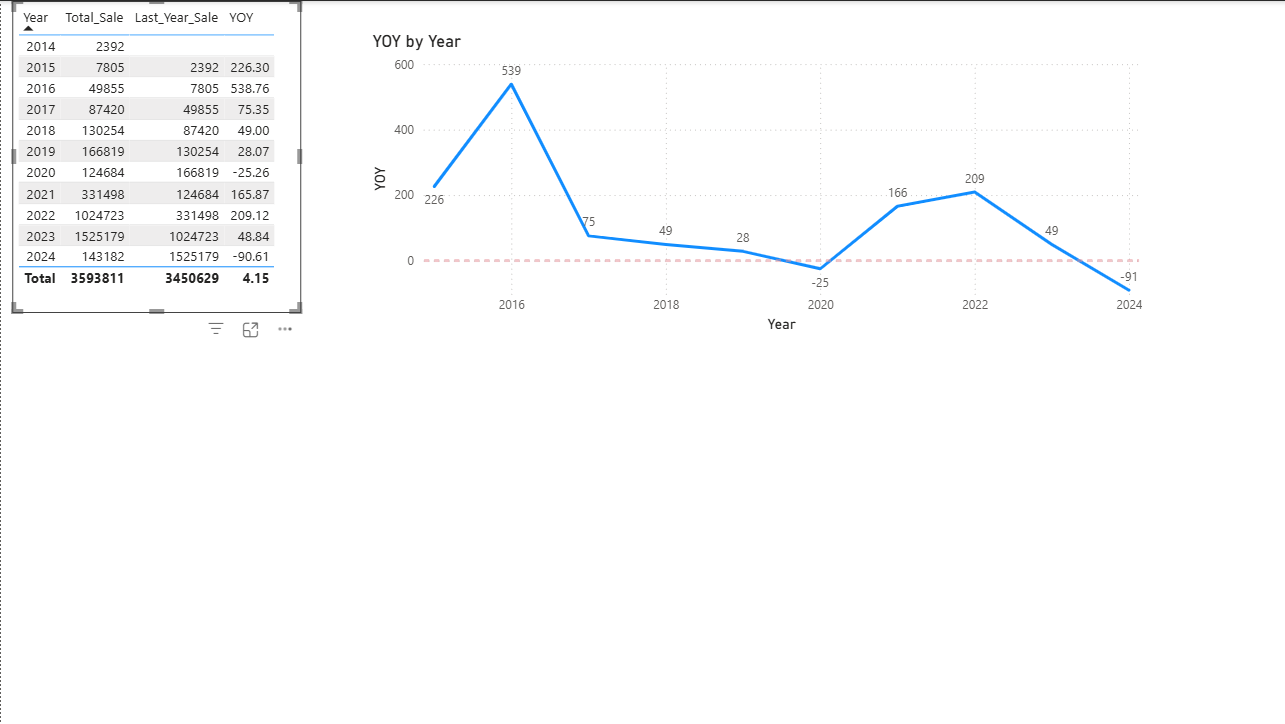

Layout of this report page (visuals, bound fields, positions):
{"tool":"powerbi","page":{"name":"Year-over-Year (YoY) EV Sales Analysis","canvas":[1280,720],"ordinal":10},"visuals":[{"type":"tableEx","fields":{"Values":["ev.Date.Variation.Date Hierarchy.Year","DAX.Total_Sale","DAX.Last _Sale","DAX.YOY"]},"box":[11.6,0,286.6,311.4],"z":0},{"type":"lineChart","fields":{"Category":["ev.Date.Variation.Date Hierarchy.Year"],"Y":["DAX.YOY"]},"box":[365,30,776.2,305],"z":1000}]}

Visuals, with their boxes on the page's 1280x720 design canvas (x1, y1, x2, y2). These are canvas units, not pixel positions in the 1285x724 screenshot, which may show the page scaled, cropped or inside an application window:
tableEx - ev.Date.Variation.Date Hierarchy.Year x DAX.Total_Sale: BBox(12, 0, 298, 311)
lineChart - ev.Date.Variation.Date Hierarchy.Year x DAX.YOY: BBox(365, 30, 1141, 335)
